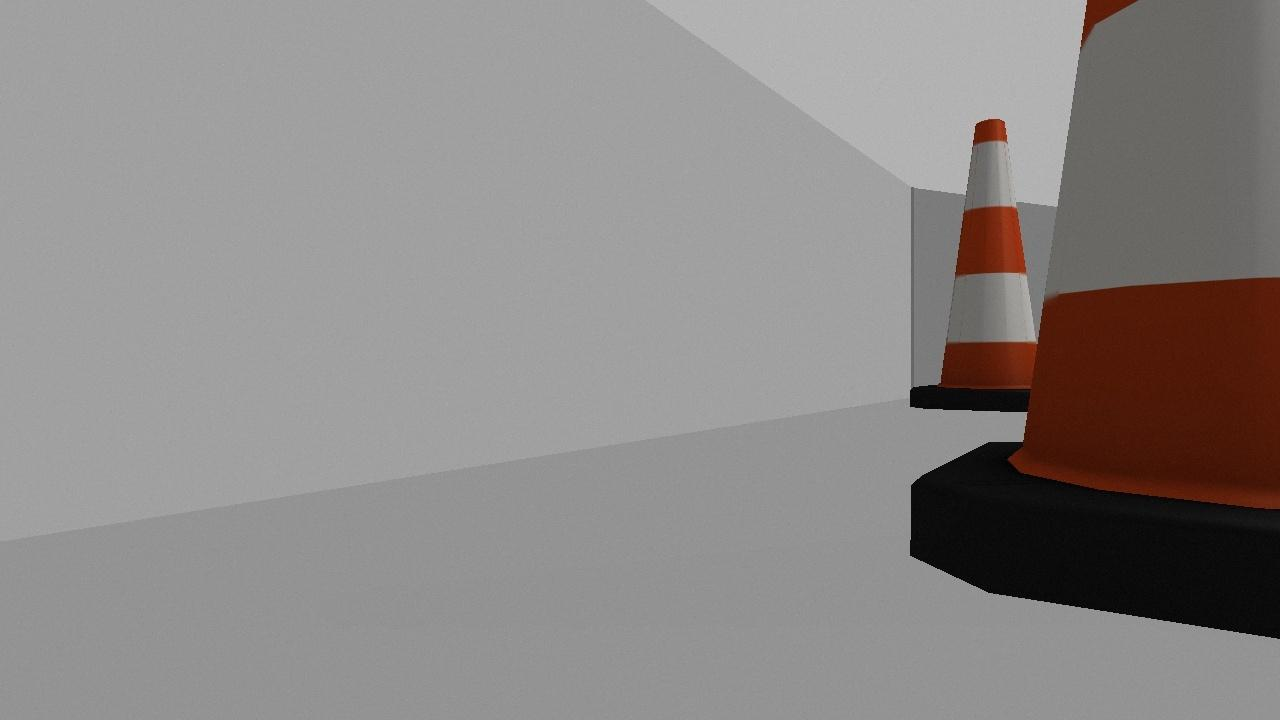cone_barrel: (909, 0, 1279, 639), (908, 98, 1063, 411)
